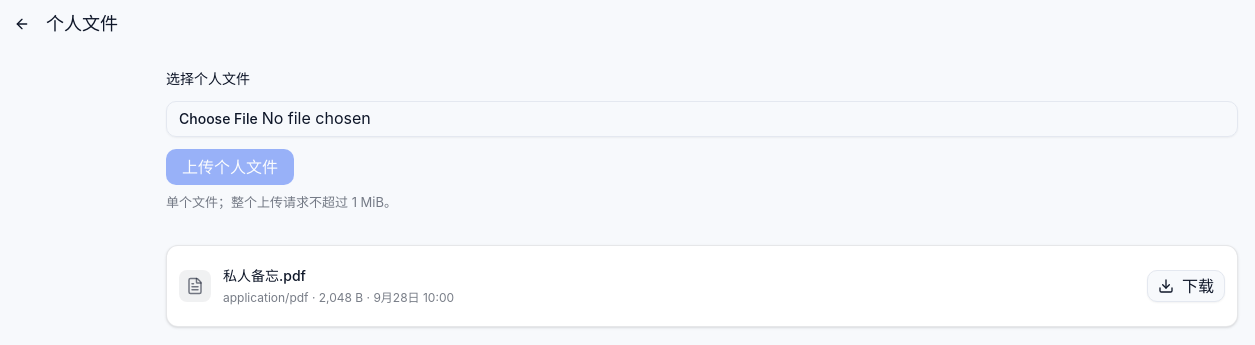
完整响应已读取但共享下载 helper 尚在异步 Blob 阶段时取消，不触发锚点保存
Click the button with test id "library-file-download": (1186, 286) [1147,270,1225,302]
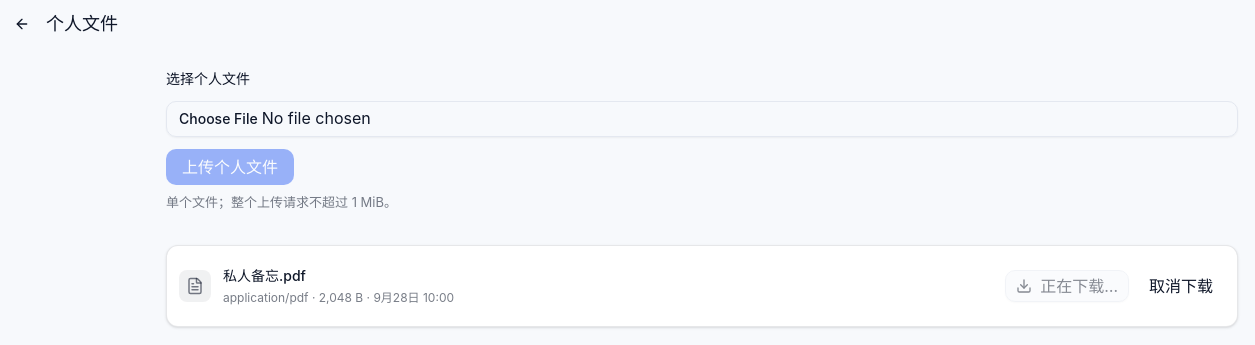
Click the button "取消下载": (1181, 286) [1137,270,1225,302]
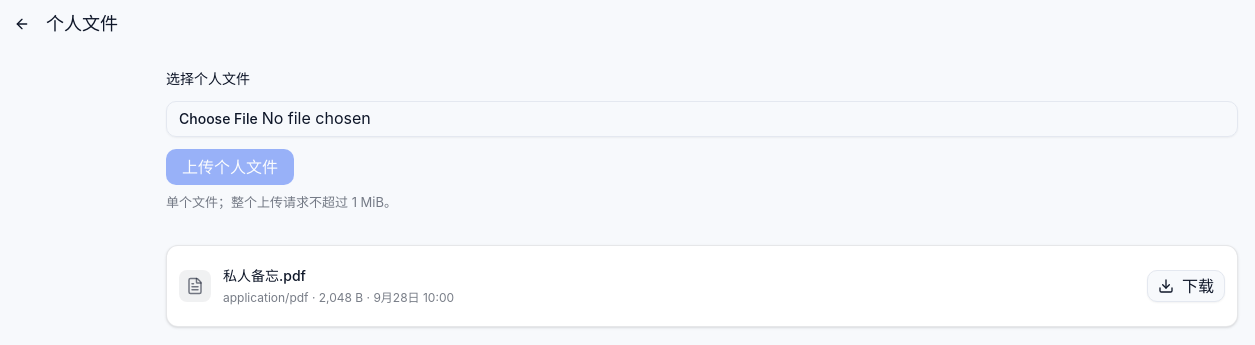
Now the button with test id "library-file-download" is enabled, box [1147,270,1225,302]
